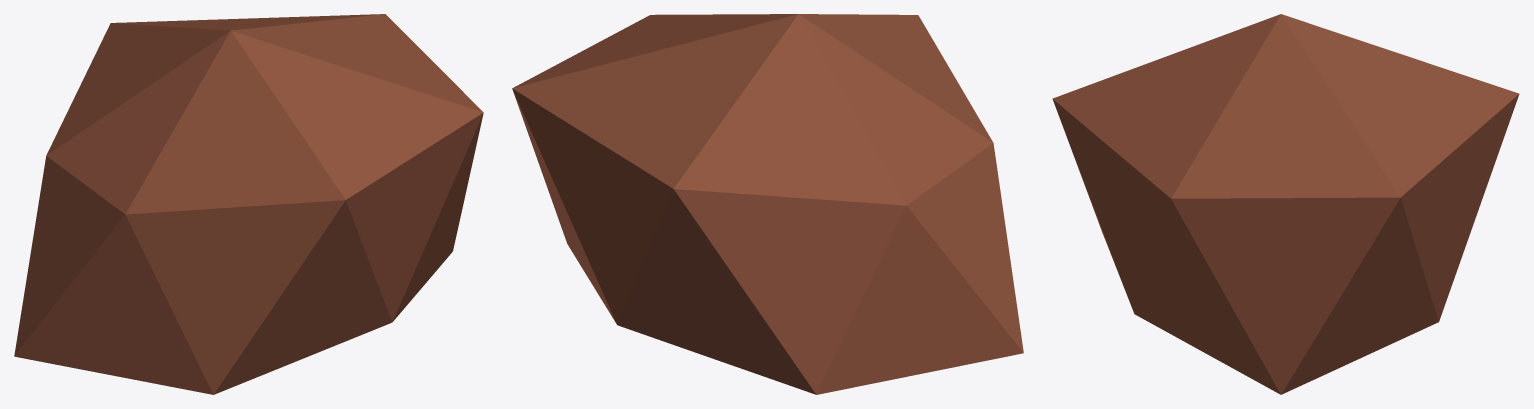
File: rock_b.glb
3 renders of one model, left to right at view 1: azimuth 30°, elevation 25°; view 2: azimuth 150°, elevation 25°; view 3: azimuth 270°, elevation 25°, orthographic. The views are drawn at different scales.
Visible parts, largest first — view 1: rock_b; view 2: rock_b; view 3: rock_b.
Boxes of the visible parts, left/top/right/bottom form: rock_b: left=14, top=14, right=483, bottom=394; rock_b: left=512, top=14, right=1023, bottom=394; rock_b: left=1052, top=14, right=1519, bottom=394.
Bounding box in the file's own units: 0.9187 × 0.5505 × 0.8528.
